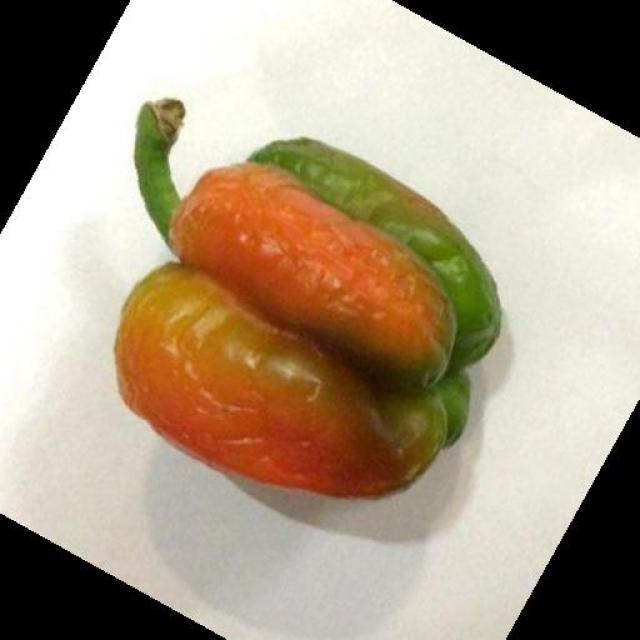Stale_Capsicum: (120, 92, 488, 492)
